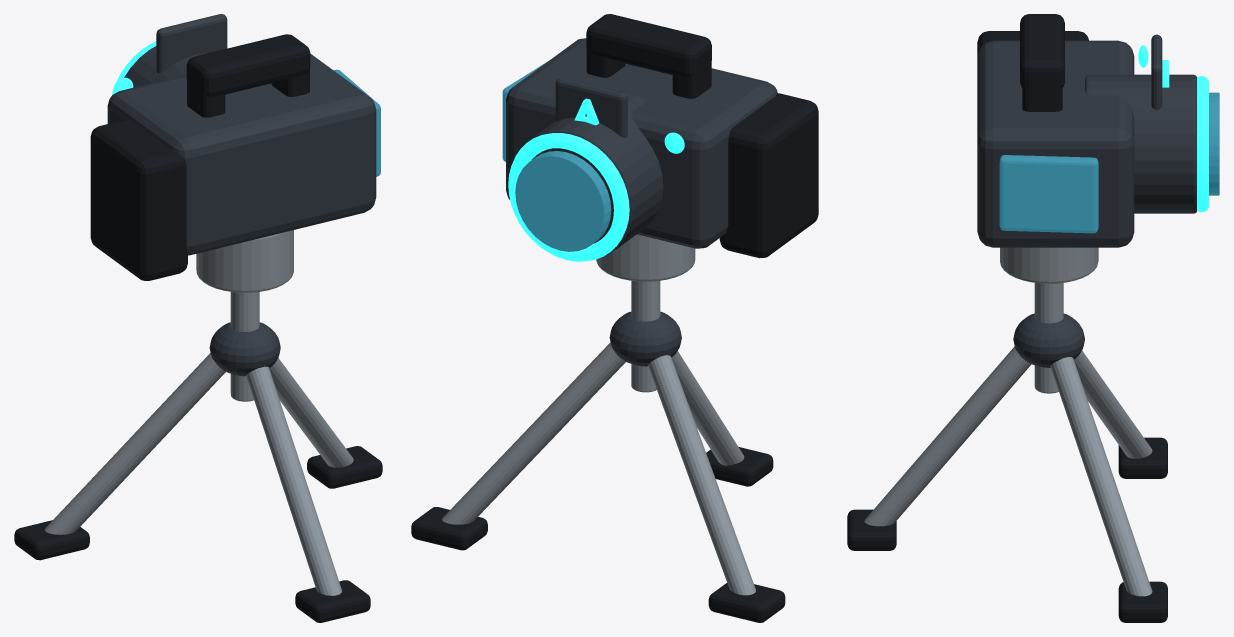
The model's file is DirectorCameraRig_A.glb.
The picture shows the model from 3 angles, left to right: view 1: azimuth 30°, elevation 25°; view 2: azimuth 150°, elevation 25°; view 3: azimuth 270°, elevation 25°; orthographic projection.
Visible parts, largest first — view 1: A_Body, A_Grip, A_Leg3, A_Leg2, A_TopHandle, A_TripodHead, A_Leg1, A_TripodHub, A_Badge, A_Foot3, A_Foot1, A_Foot2 (+4 smaller); view 2: A_Body, A_Grip, A_FrontGlass, A_Leg2, A_Leg1, A_LensBarrel, A_TopHandle, A_LensAccent, A_TripodHead, A_TripodHub, A_Badge, A_Leg3 (+6 smaller); view 3: A_Body, A_LensBarrel, A_SideMonitor, A_Leg1, A_Leg3, A_TopHandle, A_TripodHead, A_TripodHub, A_Leg2, A_CenterColumn, A_Foot1, A_LensAccent (+6 smaller).
Part boxes in pixels (x1=…): A_Body: x1=107, y1=53, x2=376, y2=255; A_Grip: x1=90, y1=119, x2=187, y2=280; A_Leg3: x1=246, y1=366, x2=341, y2=595; A_Leg2: x1=44, y1=353, x2=225, y2=534; A_TopHandle: x1=186, y1=34, x2=310, y2=96; A_TripodHead: x1=196, y1=230, x2=293, y2=292; A_Leg1: x1=269, y1=358, x2=353, y2=467; A_TripodHub: x1=209, y1=322, x2=280, y2=376; A_Badge: x1=156, y1=14, x2=227, y2=73; A_Foot3: x1=295, y1=580, x2=370, y2=622; A_Foot1: x1=307, y1=446, x2=382, y2=488; A_Foot2: x1=14, y1=520, x2=89, y2=560; A_Body: x1=506, y1=38, x2=777, y2=248; A_Grip: x1=719, y1=93, x2=818, y2=258; A_FrontGlass: x1=515, y1=151, x2=611, y2=251; A_Leg2: x1=648, y1=355, x2=755, y2=595; A_Leg1: x1=442, y1=342, x2=625, y2=524; A_LensBarrel: x1=522, y1=90, x2=663, y2=255; A_TopHandle: x1=586, y1=14, x2=711, y2=77; A_LensAccent: x1=508, y1=133, x2=629, y2=261; A_TripodHead: x1=596, y1=234, x2=695, y2=281; A_TripodHub: x1=609, y1=311, x2=681, y2=366; A_Badge: x1=555, y1=77, x2=627, y2=137; A_Leg3: x1=671, y1=351, x2=744, y2=465; A_Body: x1=977, y1=40, x2=1134, y2=247; A_LensBarrel: x1=1085, y1=74, x2=1196, y2=213; A_SideMonitor: x1=999, y1=155, x2=1098, y2=233; A_Leg1: x1=1050, y1=357, x2=1152, y2=596; A_Leg3: x1=864, y1=346, x2=1031, y2=526; A_TopHandle: x1=1020, y1=14, x2=1064, y2=88; A_TripodHead: x1=1000, y1=247, x2=1098, y2=283; A_TripodHub: x1=1013, y1=313, x2=1084, y2=367; A_Leg2: x1=1074, y1=350, x2=1152, y2=458; A_CenterColumn: x1=1034, y1=283, x2=1063, y2=393; A_Foot1: x1=1118, y1=581, x2=1167, y2=622; A_LensAccent: x1=1197, y1=76, x2=1208, y2=212.
Bounding box in the file's own units: 0.1319 × 0.18 × 0.121.
